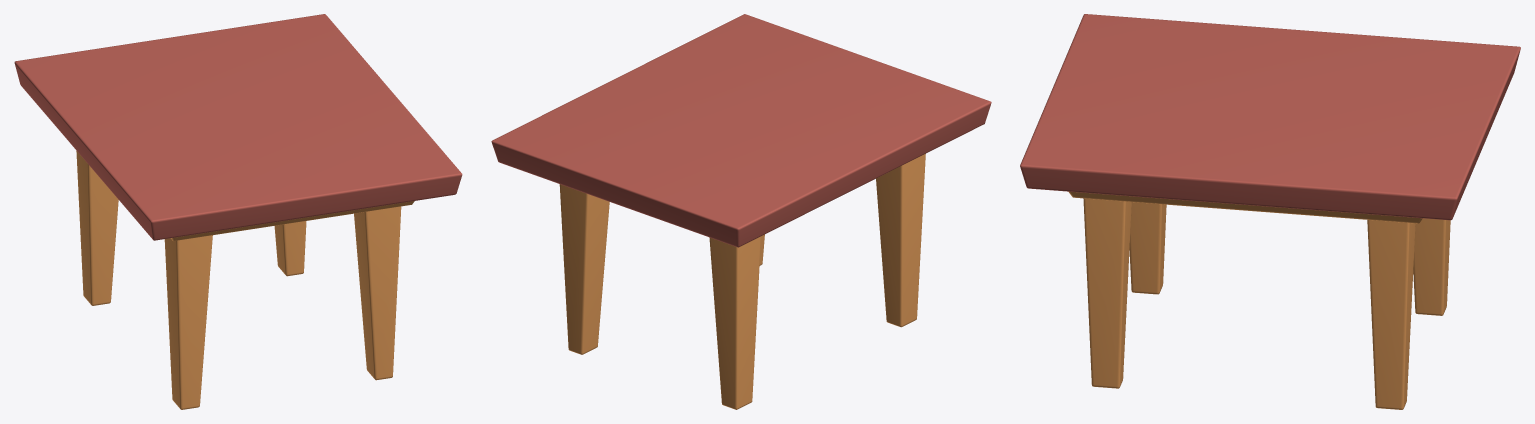
File: SM_Table_01.fbx
The picture shows the model from 3 angles, left to right: view 1: azimuth 30°, elevation 25°; view 2: azimuth 150°, elevation 25°; view 3: azimuth 270°, elevation 25°; orthographic projection. The views are drawn at different scales.
Parts seen in each view (by area): view 1: SM_Table_01; view 2: SM_Table_01; view 3: SM_Table_01.
Boxes of the visible parts, box(x1,y1,x2,y2) form: SM_Table_01: box(14, 14, 462, 409); SM_Table_01: box(491, 14, 991, 409); SM_Table_01: box(1020, 14, 1520, 409).
Bounding box in the file's own units: 202 × 123 × 232.
